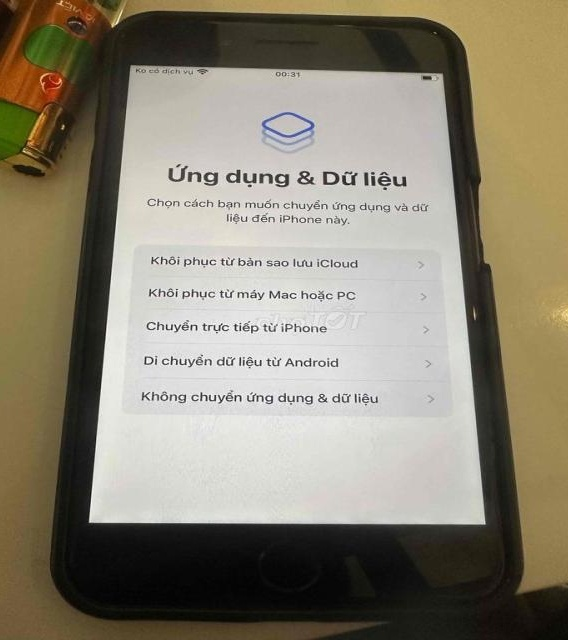scratch: (458, 297, 487, 327), (420, 23, 446, 40)
